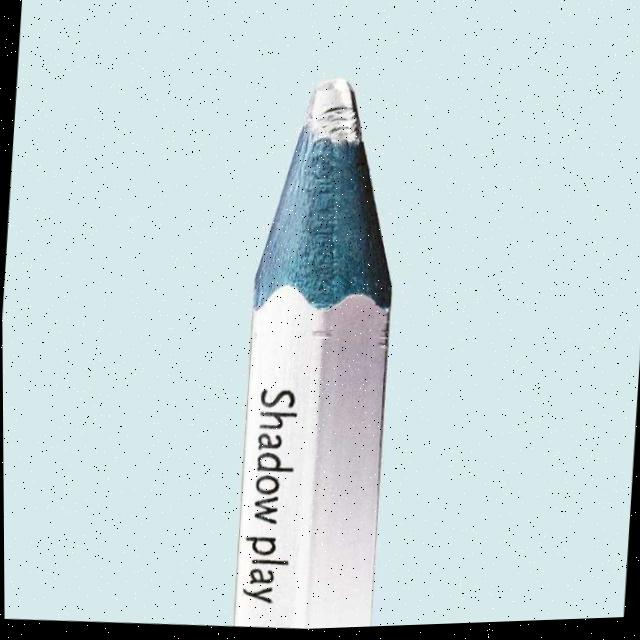pencil: (196, 31, 464, 631)
